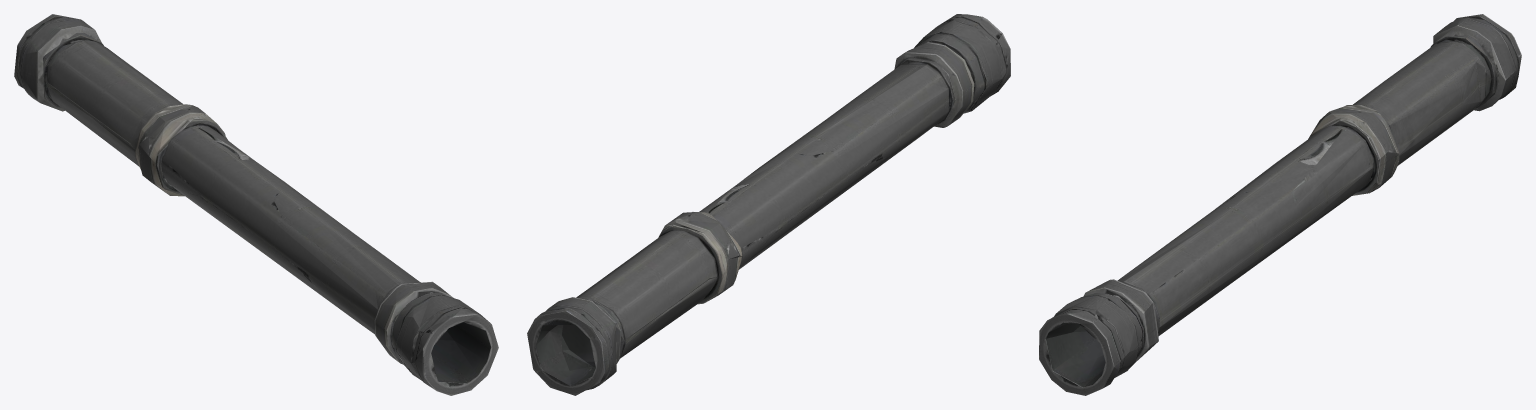
File: shared_defence_battery__barrel_lod1.glb
3 views of the same model, side by side, from view 1: azimuth 30°, elevation 25°; view 2: azimuth 150°, elevation 25°; view 3: azimuth 330°, elevation 25° (orthographic).
Visible parts, largest first — view 1: mesh_node; view 2: mesh_node; view 3: mesh_node.
Boxes of the visible parts, bbox=[...] form: mesh_node: bbox=[14, 14, 498, 395]; mesh_node: bbox=[527, 14, 1010, 395]; mesh_node: bbox=[1039, 14, 1521, 395].
Bounding box in the file's own units: 1.38 × 1.38 × 12.18.
1 material, 1 textured.
